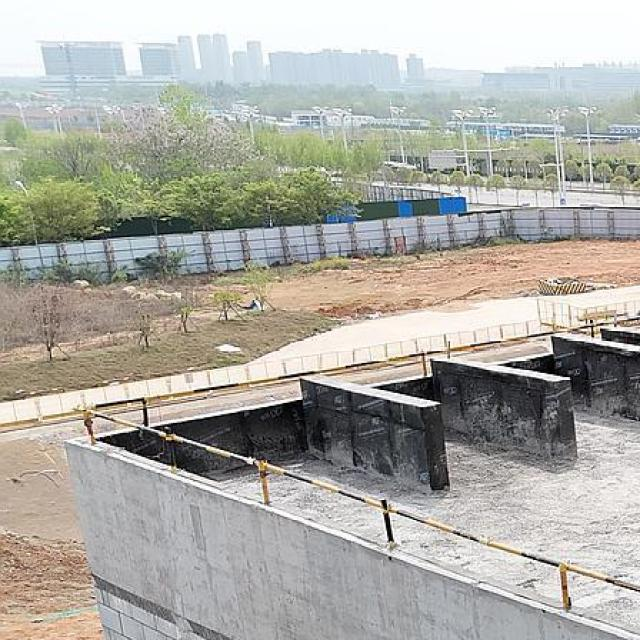edge_guardrail: (71, 314, 640, 613)
